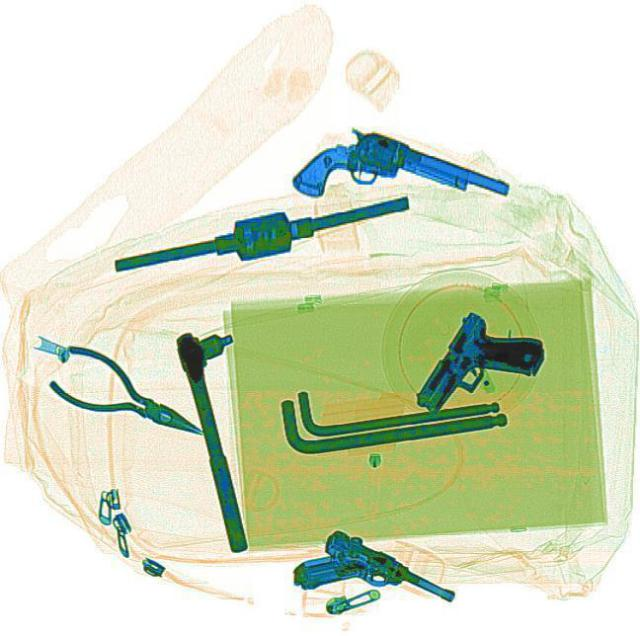Gun: (285, 112, 511, 255), (410, 303, 550, 441), (298, 524, 454, 633)
Pliers: (40, 336, 216, 457)
